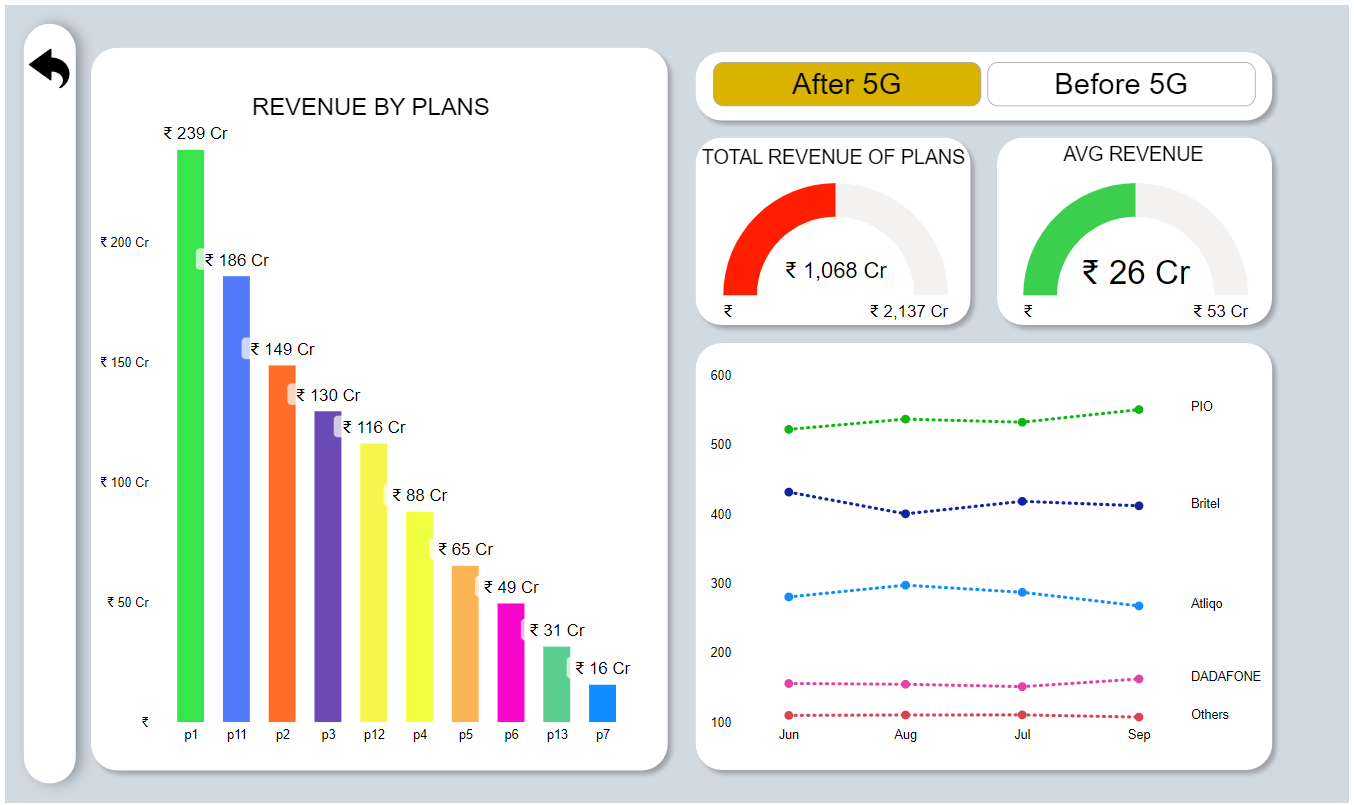

The dashboard page shown, as its layout file describes it:
{"tool":"powerbi","page":{"name":"Plans","canvas":[1280,760],"ordinal":2},"visuals":[{"type":"group","id":"g1","title":"Menu STuff","box":[0,0,85.4,759.5],"z":0},{"type":"shape","title":"Menu Bar","box":[0,0,85.4,759.5],"z":0,"group":"g1"},{"type":"group","id":"g2","title":"Line chart bg","box":[73.4,30.9,567.6,706.6],"z":0,"group":"g7"},{"type":"actionButton","box":[73.4,30.9,567.6,706.6],"z":0,"group":"g2"},{"type":"image","box":[11.3,35.2,61,48.8],"z":0,"group":"g3"},{"type":"lineClusteredColumnComboChart","fields":{"Category":["dim_plan.plan"],"Y":["measures (2).Plan Revenue"]},"box":[85,99.7,521.3,612],"z":0,"group":"g8"},{"type":"actionButton","box":[648.7,115.9,279.9,196.9],"z":0,"group":"g5"},{"type":"actionButton","box":[648.7,312.8,567.6,424.7],"z":0,"group":"g4"},{"type":"actionButton","box":[648.7,34.8,567.6,83],"z":1000,"group":"g5"},{"type":"group","id":"g3","title":"Trends","box":[11.3,35.2,61,48.8],"z":1000},{"type":"ChicletSlicer1448559807354","fields":{"Category":["dim_date.before/after_5g"]},"box":[666.1,46.3,532.9,61.8],"z":1000,"group":"g8"},{"type":"group","id":"g4","title":"Line chart bg","box":[648.7,312.8,567.6,424.7],"z":1000,"group":"g7"},{"type":"group","id":"g5","title":"Line chart bg","box":[648.7,34.8,567.6,278],"z":2000,"group":"g7"},{"type":"actionButton","box":[936.4,115.9,279.9,196.9],"z":2000,"group":"g5"},{"type":"lineChart","fields":{"Category":["dim_date.month_name"],"Y":["measures (2).sum of mspct"],"Series":["fact_market_share.company"]},"box":[666.1,339.8,538.6,372.6],"z":2000,"group":"g8"},{"type":"gauge","fields":{"Y":["measures (2).Plan Revenue"]},"box":[666.2,165,250,145],"z":3000,"group":"g8"},{"type":"gauge","fields":{"Y":["measures (2).Avg Revenue"]},"box":[952,165,250,145],"z":4000,"group":"g8"},{"type":"group","id":"g6","title":"Names","box":[146.8,77.2,1027.1,88.8],"z":4500,"group":"g8"},{"type":"group","id":"g7","title":"Last Page BG","box":[73.4,30.9,1142.9,706.6],"z":7000},{"type":"group","id":"g8","title":"Last Page Figs","box":[85,46.3,1119.8,666.1],"z":8000},{"type":"actionButton","box":[146.8,77.2,405.4,40.5],"z":9000,"group":"g6"},{"type":"actionButton","box":[978.9,123.5,195,40.5],"z":10000,"group":"g6"},{"type":"actionButton","box":[656.5,125.5,266.4,40.5],"z":11000,"group":"g6"}]}

Visuals, with their boxes in screenshot pixels (x1, y1, x2, y2), scaled from the page's 1280x760 canvas onto the 1354x805 screenshot:
"Menu STuff" group: 0/0/90/804
"Menu Bar" shape: 0/0/90/804
"Line chart bg" group: 78/33/678/781
actionButton: 78/33/678/781
image: 12/37/76/89
lineClusteredColumnComboChart - dim_plan.plan x measures (2).Plan Revenue: 90/106/641/754
actionButton: 686/123/982/331
actionButton: 686/331/1287/781
actionButton: 686/37/1287/125
"Trends" group: 12/37/76/89
ChicletSlicer1448559807354 - dim_date.before/after_5g: 705/49/1268/115
"Line chart bg" group: 686/331/1287/781
"Line chart bg" group: 686/37/1287/331
actionButton: 991/123/1287/331
lineChart - dim_date.month_name x measures (2).sum of mspct: 705/360/1274/755
gauge - measures (2).Plan Revenue: 705/175/969/328
gauge - measures (2).Avg Revenue: 1007/175/1271/328
"Names" group: 155/82/1242/176
"Last Page BG" group: 78/33/1287/781
"Last Page Figs" group: 90/49/1274/755
actionButton: 155/82/584/125
actionButton: 1035/131/1242/174
actionButton: 694/133/976/176
